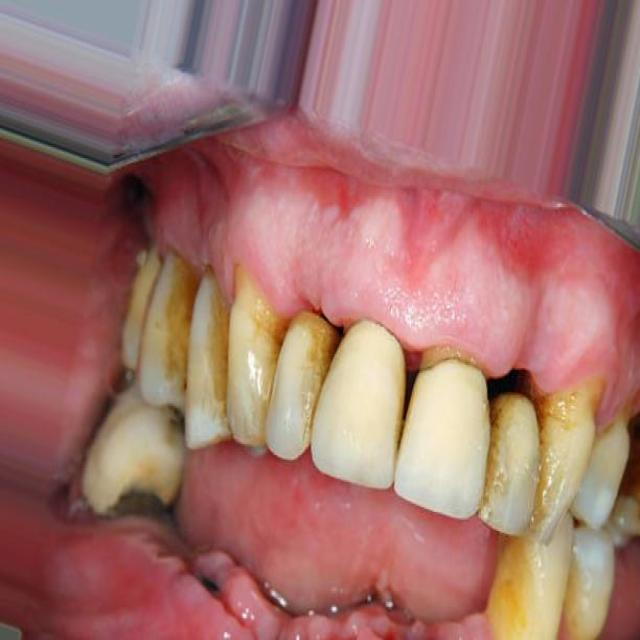caries: (102, 460, 172, 542)
